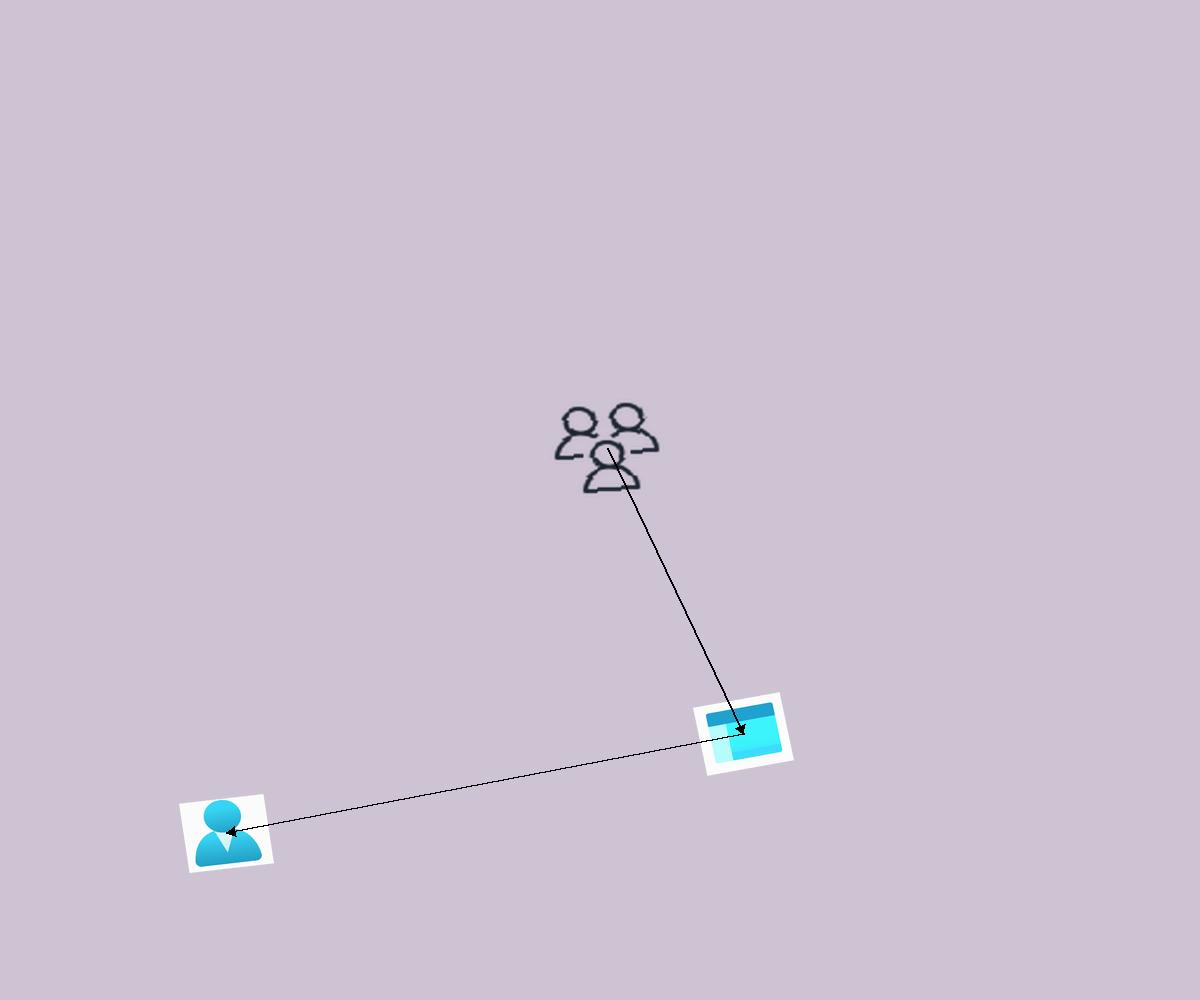AWS-Res_Users: (543, 395, 671, 501)
Azure_management-portal: (693, 692, 794, 776)
Azure_users: (179, 794, 274, 873)
